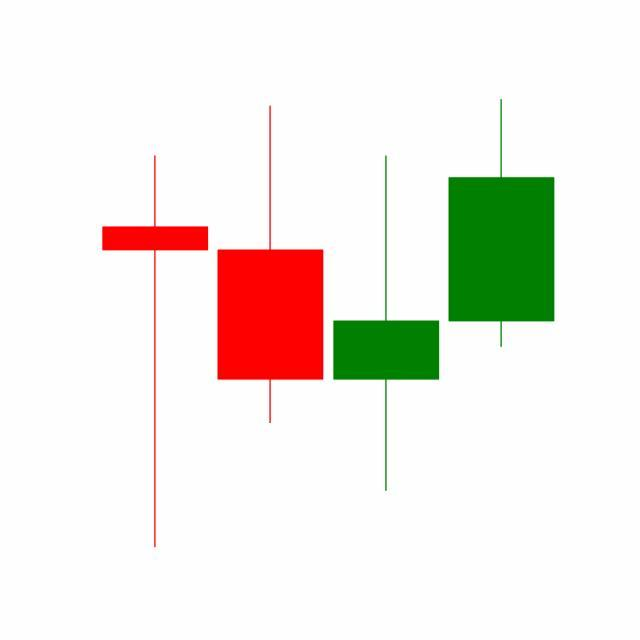Spinning Top: (329, 153, 445, 496)
